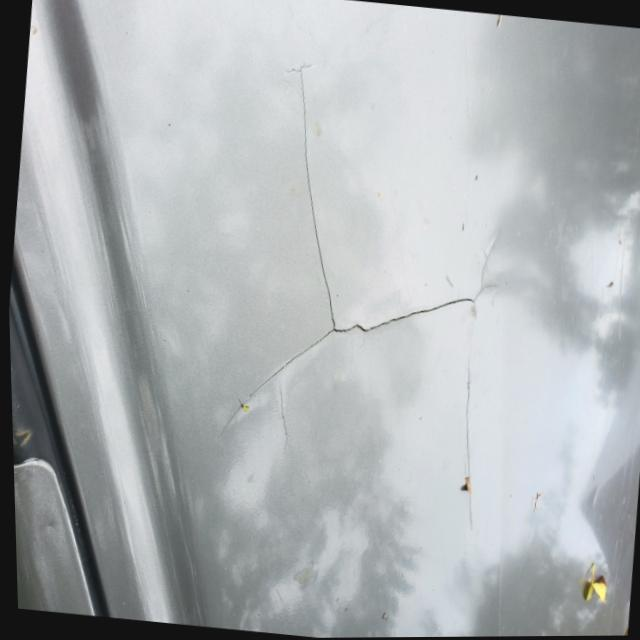Paint-Crack: (217, 60, 503, 444), (463, 358, 475, 536), (277, 382, 290, 441), (533, 484, 545, 512), (495, 13, 505, 29)
